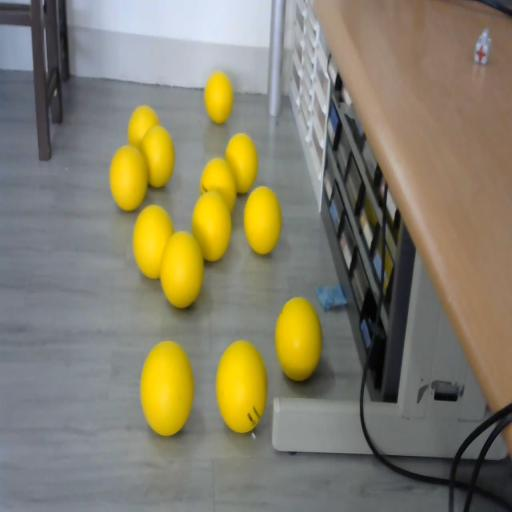FUEL: (140, 339, 194, 436), (214, 338, 268, 434), (274, 296, 322, 382), (159, 230, 204, 308), (191, 190, 232, 261), (243, 185, 282, 254), (109, 144, 148, 210), (140, 124, 176, 188), (226, 133, 258, 193), (204, 71, 234, 123)
